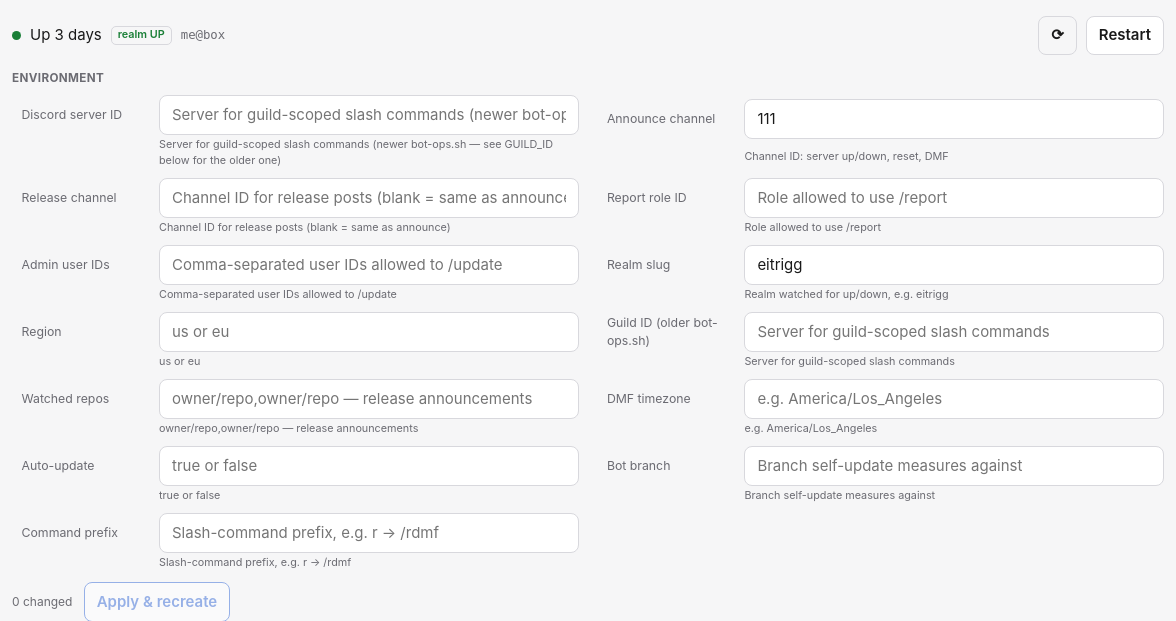
Scenario: BotOps › restarts the selected target after confirmation
Expected: the text "Up 3 days" is shown, x1=30 y1=24 x2=102 y2=47
Click the button "Restart". click: (1125, 36)
box: x1=1086 y1=16 x2=1164 y2=55
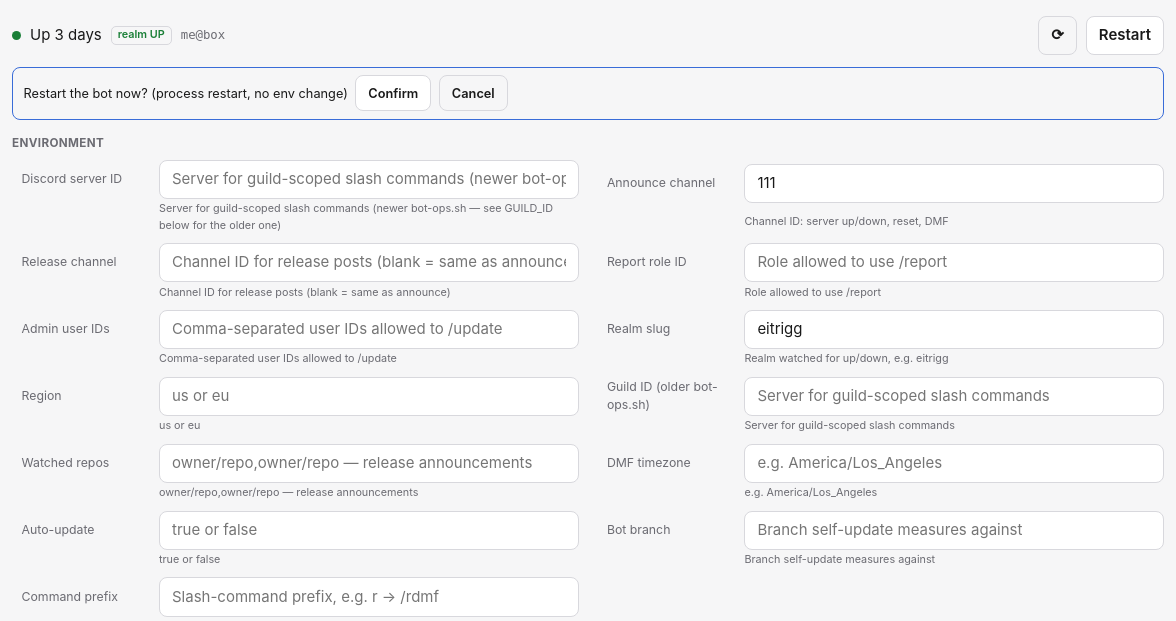
Click the button "Confirm". click: (393, 93)
box: x1=355 y1=75 x2=431 y2=111
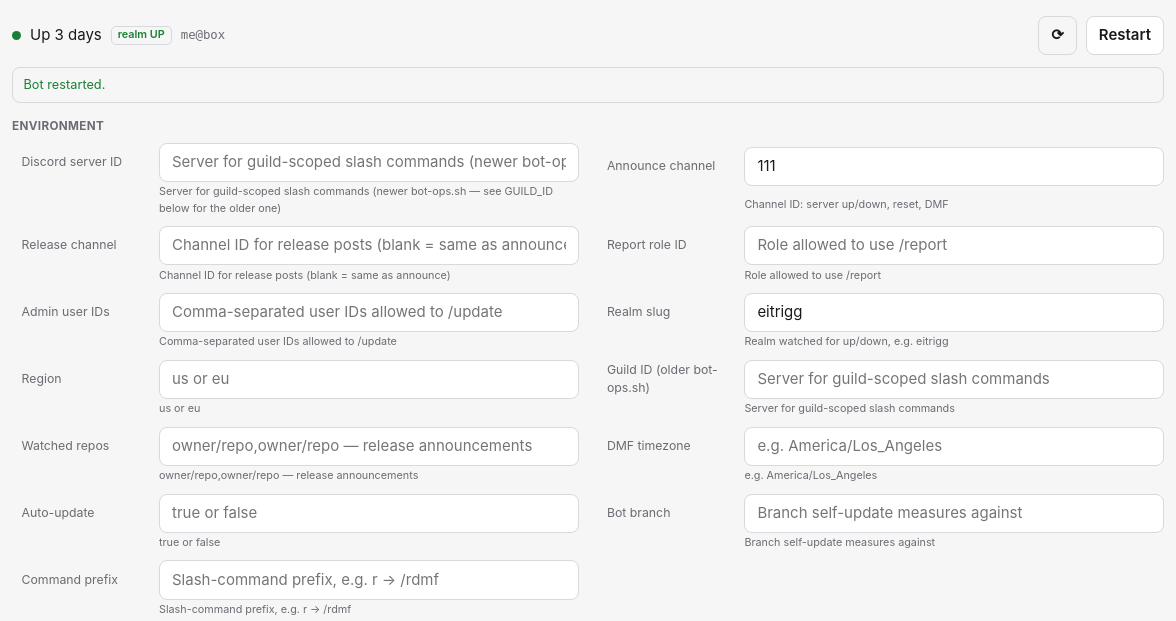
Now the text "Bot restarted." is shown, box x1=12 y1=66 x2=1164 y2=103
